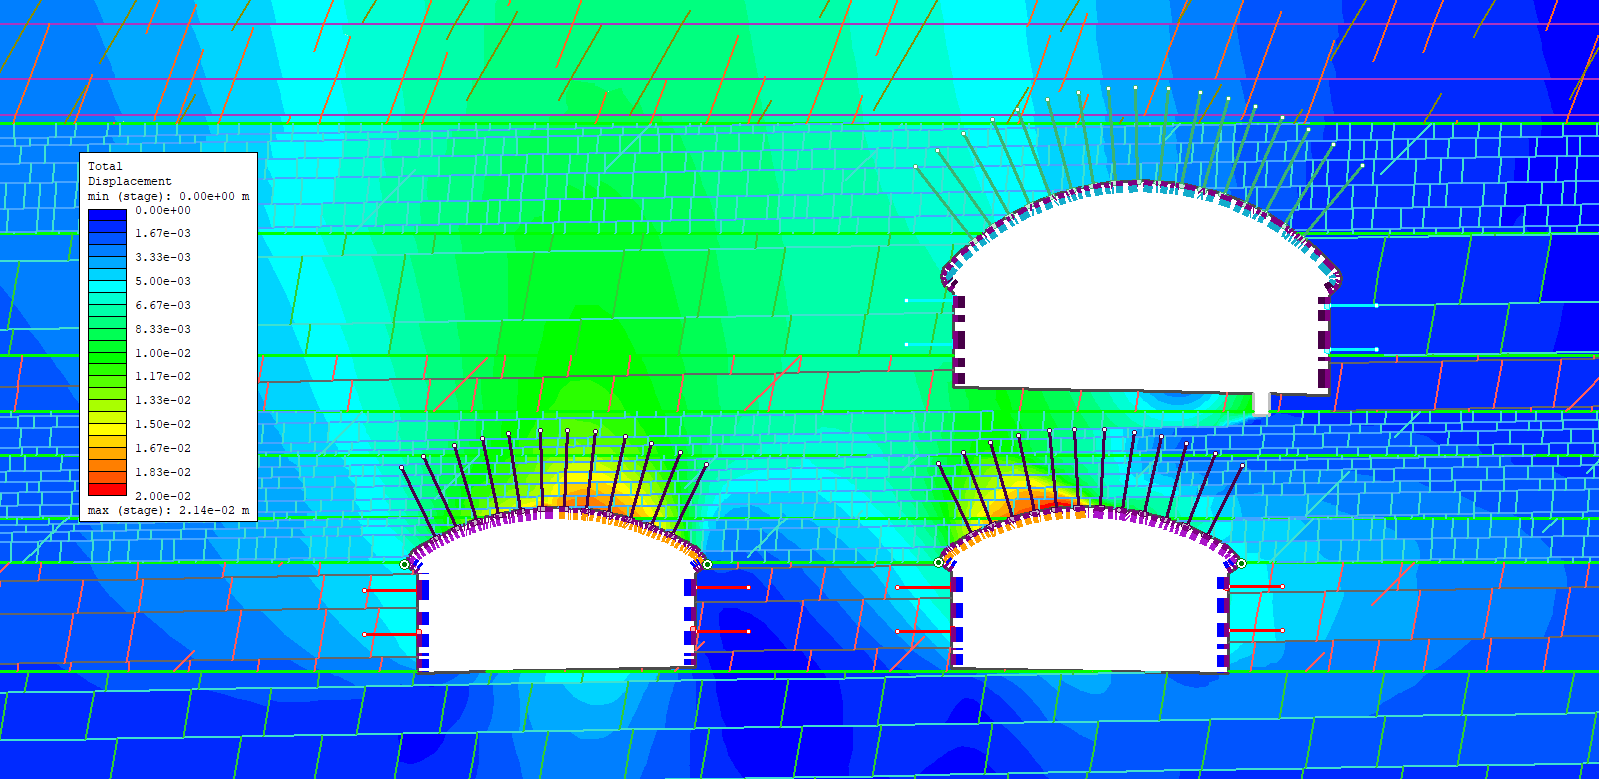crown: (1063, 474, 1137, 502), (514, 476, 586, 502), (1118, 159, 1190, 175)
label: (82, 154, 257, 523)
tunnel-opening: (945, 179, 1338, 393), (938, 505, 1244, 672), (413, 505, 708, 677)
